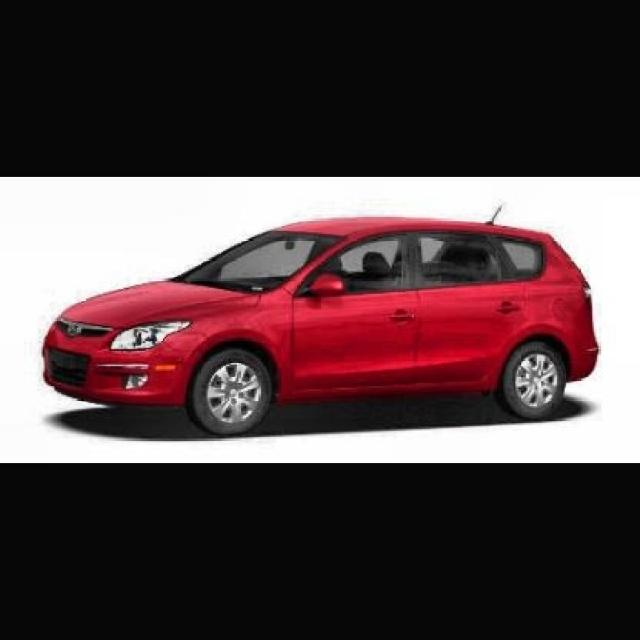red: (42, 203, 617, 440)
